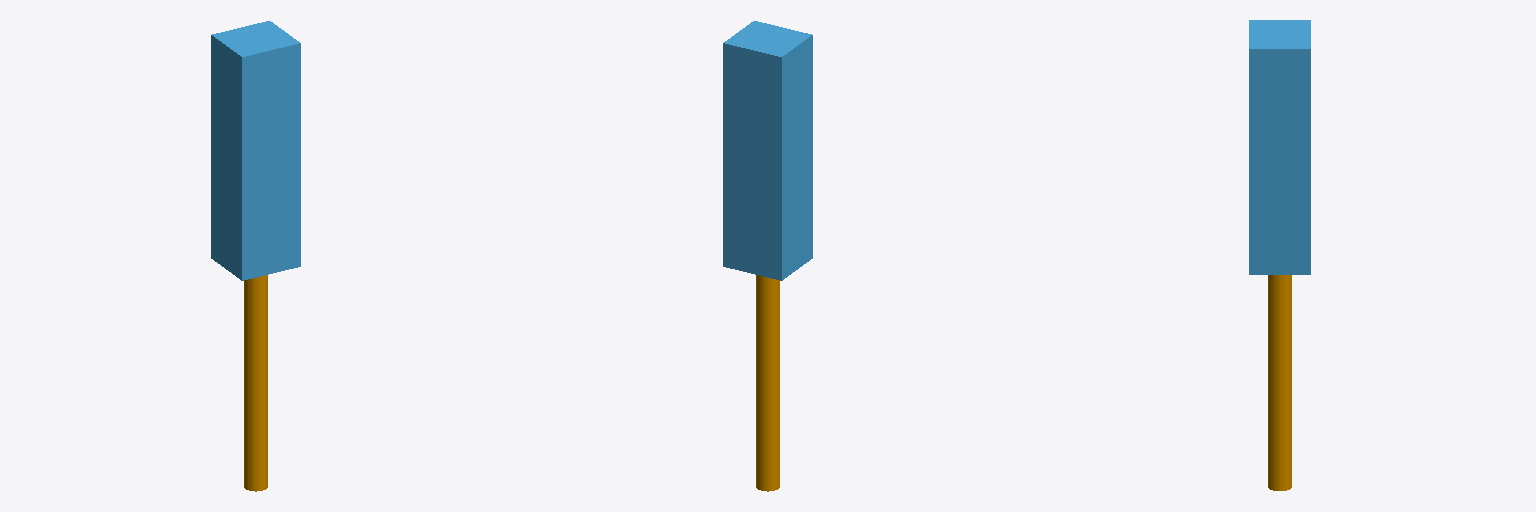
The robot description file, URDF, robot "screwdriver_on_the_table":
<?xml version="1.0" ?>
<!-- this is the one without any virtual joints and links -->
<robot name="screwdriver_on_the_table">
<link name="screwdriver_stick">
    <inertial>
      <mass value="0.05"/>
      <!-- <friction value="1.0"/> -->
      <inertia ixx="0.000041979" ixy="0.0" ixz="0.0" iyy="0.000041979" iyz="0.0" izz="0.000000625"/>
    </inertial>
    <visual>
        <origin rpy="0 0 0" xyz="0 0 0.05"/>
        <geometry>
            <cylinder radius="0.005" length="0.1"/>
        </geometry>
        <!-- <material name="White">
	 	    <color rgba="0.9 0.9 0.9 0.5"/>
        </material> -->
    </visual>
    <collision>
        <origin rpy="0 0 0" xyz="0 0 0.05"/>
        <geometry>
            <cylinder radius="0.005" length="0.1"/>
        </geometry>
    </collision>
</link>

<gazebo reference="screwdriver_body">
    <mu1>0.708211</mu1>
    <mu2>0.652200</mu2>
    <!-- Isaac Sim maps mu1/mu2 to PhysX static/dynamic friction during URDF→USD import -->
</gazebo>

<joint name="screwdriver_stick_body_joint" type="fixed">
    <parent link="screwdriver_stick"/>
    <child link="screwdriver_body"/>
    <origin rpy="0 0 0" xyz="0 0 0.1"/> 
    <axis xyz="0 0 1"/>
</joint>

<link name="screwdriver_body">
    <inertial>
      <mass value="0.165290"/>
      <inertia ixx="0.000146350" ixy="0.0" ixz="0.0" iyy="0.000148062" iyz="0.0" izz="0.000018929"/>
    </inertial>
    <visual>
        <origin rpy="0 0 0" xyz="0 0 0.05"/>
        <geometry>
            <box size="0.027372 0.025000 0.100000"/>
        </geometry>
        <!-- <material name="Red1">
	 	    <color rgba="0.9 0. 0. 0.5"/>
        </material> -->
    </visual>
    <collision>
        <origin rpy="0 0 0" xyz="0 0 0.05"/>
        <geometry>
            <box size="0.027372 0.025000 0.100000"/>
        </geometry>
    </collision>
</link>

<!-- <joint name="screwdriver_body_cap_joint" type="revolute">
    <parent link="screwdriver_body"/>
    <child link="screwdriver_cap"/>
    <origin rpy="0 0 0" xyz="0 0 0.1"/> 
    <axis xyz="0 0 1"/>
</joint>

<link name="screwdriver_cap">
    <inertial>
      <mass value="0.005"/>
      <inertia ixx="0.00001" ixy="0.0" ixz="0.0" iyy="0.000005" iyz="0.0" izz="0.000005"/>
    </inertial>
    <visual>
        <origin rpy="0 0 0" xyz="0 0 0.0006"/>
        <geometry>
            <cylinder radius="0.02" length="0.001"/>
        </geometry>
        <material name="Yellow">
	 	    <color rgba="0.9 0.9 0. 1.0"/>
        </material>
    </visual>
    <collision>
        <origin rpy="0 0 0" xyz="0 0 0.0005"/>
        <geometry>
            <cylinder radius="0.02" length="0.001"/>
        </geometry>
    </collision>
</link> -->

</robot>

--- What the picture shows (computed from the rendered views, not written in the file) ---
The picture shows the robot from 3 angles, left to right: view 1: azimuth 30°, elevation 25°; view 2: azimuth 150°, elevation 25°; view 3: azimuth 270°, elevation 25°; orthographic projection.
Robot: screwdriver_on_the_table — 2 links, 1 joints (1 fixed); root link screwdriver_stick; default pose: every joint at zero.
Links seen in each view (by area): view 1: screwdriver_body, screwdriver_stick; view 2: screwdriver_body, screwdriver_stick; view 3: screwdriver_body, screwdriver_stick.
Boxes of the visible links, box(x1,y1,x2,y2) form: screwdriver_body: box(211, 21, 300, 280); screwdriver_stick: box(244, 275, 267, 491); screwdriver_body: box(723, 21, 812, 280); screwdriver_stick: box(756, 275, 779, 491); screwdriver_body: box(1249, 20, 1310, 274); screwdriver_stick: box(1268, 275, 1291, 490).
Size in the robot's own frame: 0.0274 by 0.025 by 0.2 metres.
Geometry: primitives only (box / cylinder / sphere), no mesh files.
